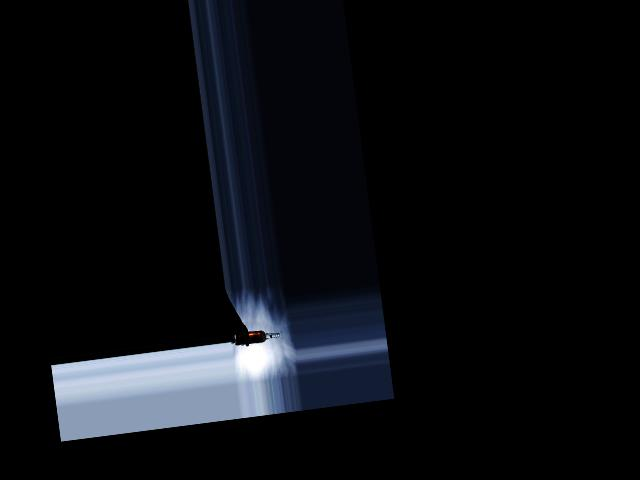beer: (234, 327, 280, 345)
